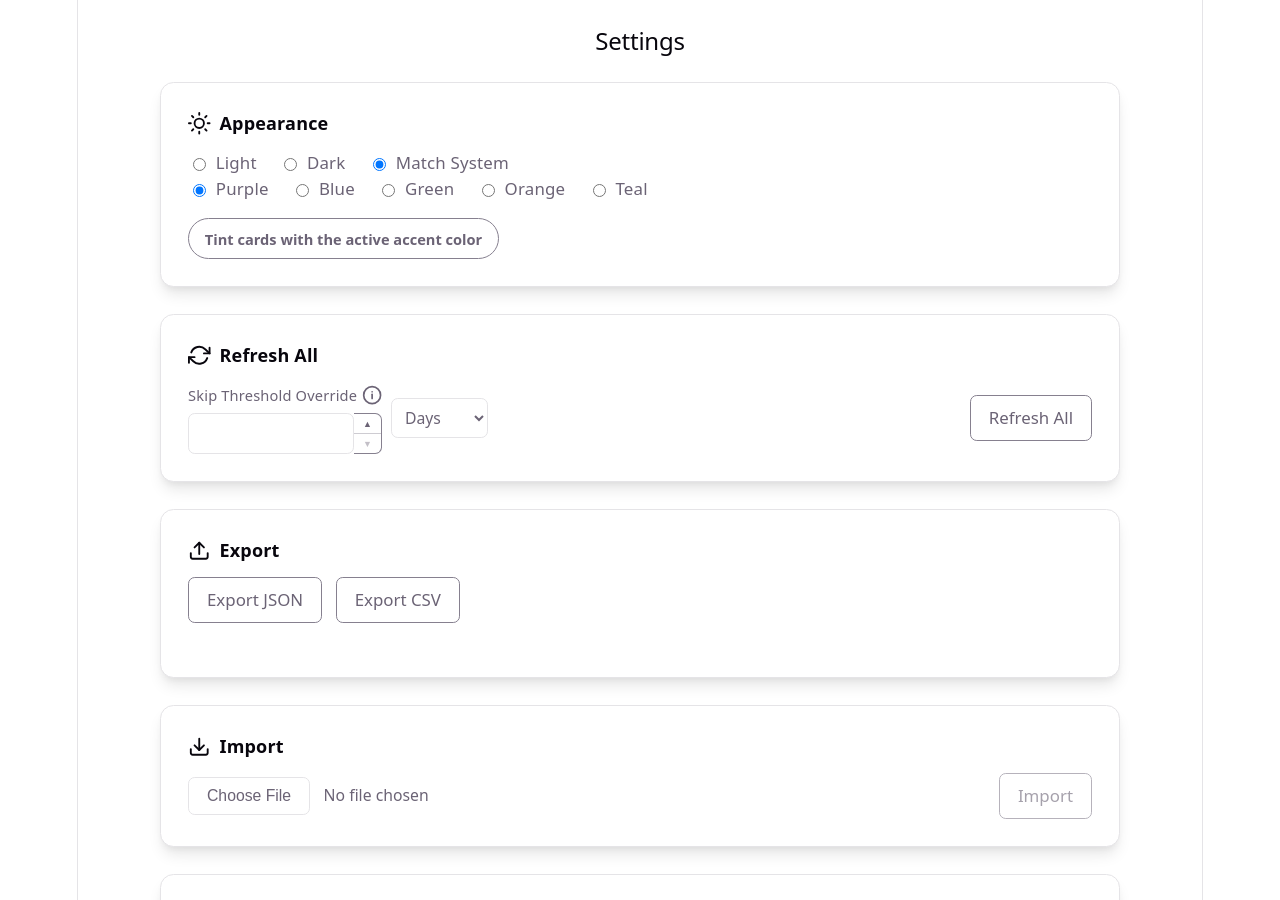
Test: FRONTEND-023-AC-14: 409 on click is treated as already-in-progress, not an error › enters polling state instead of showing an error
Click the button "Refresh All": (1031, 418) [970, 395, 1092, 441]
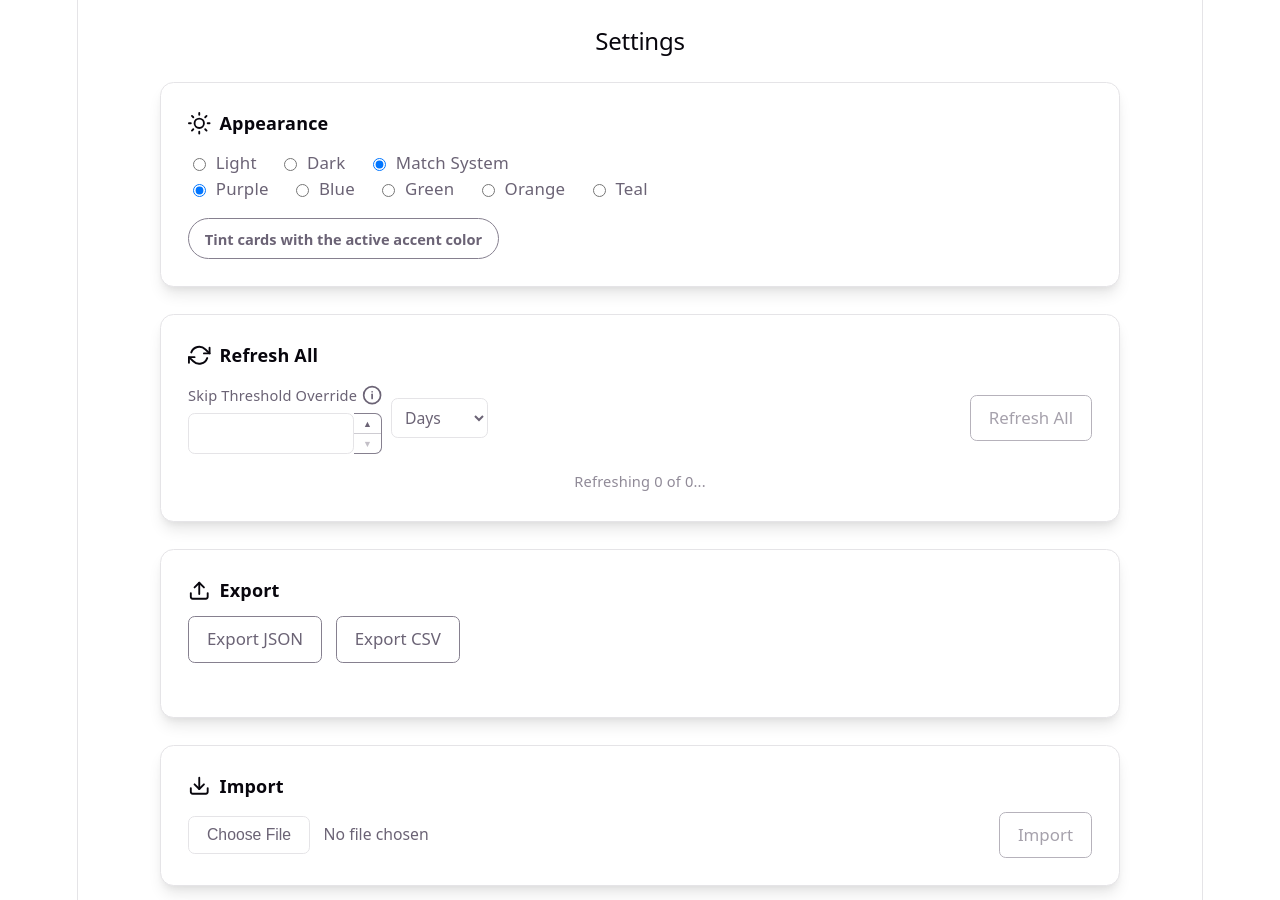
Check: the button "Refresh All" is disabled, box [970, 395, 1092, 441]
